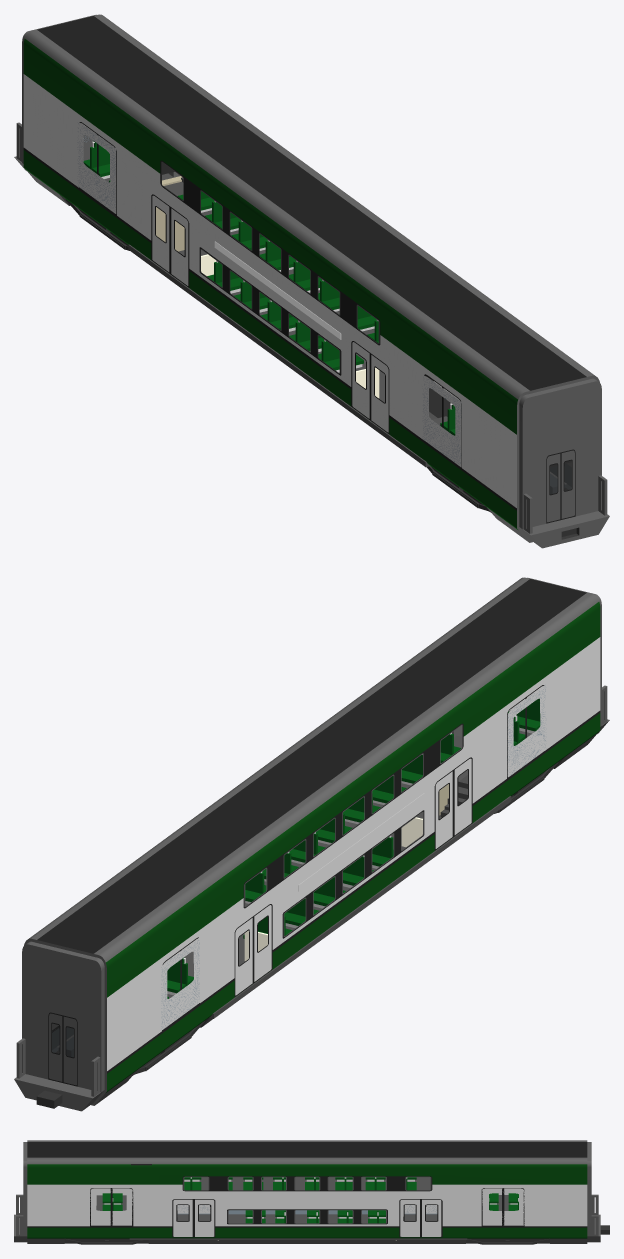
Rendered from double-decker-coach.glb.
3 renders of one model, top to bottom at view 1: azimuth 30°, elevation 25°; view 2: azimuth 150°, elevation 25°; view 3: azimuth 270°, elevation 25°, orthographic. The views are drawn at different scales.
Parts seen in each view (by area): view 1: group_1, Box, Box_6; view 2: group_1, Box, Box_6; view 3: group_1, Box (×3), Box_318, Box_241.
Part boxes in pixels (box(x1,y1,x2,y2)): group_1: box(14, 14, 609, 548); Box: box(128, 244, 430, 467); Box_6: box(214, 241, 341, 339); group_1: box(14, 577, 609, 1111); Box: box(209, 796, 511, 1018); Box_6: box(298, 793, 424, 891); group_1: box(14, 1140, 609, 1244); Box (×3): box(96, 1177, 467, 1239); Box_318: box(102, 1193, 122, 1203); Box_241: box(365, 1182, 385, 1190).
Size of the model in its own units: 2.9 by 5 by 31.3.
